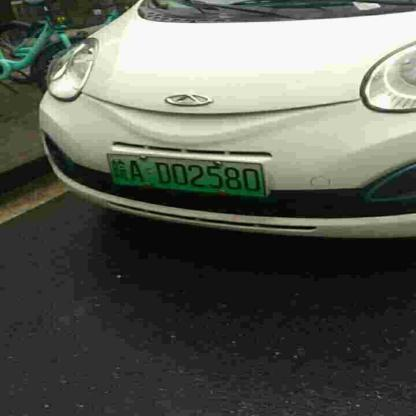lp: (103, 153, 266, 196)
